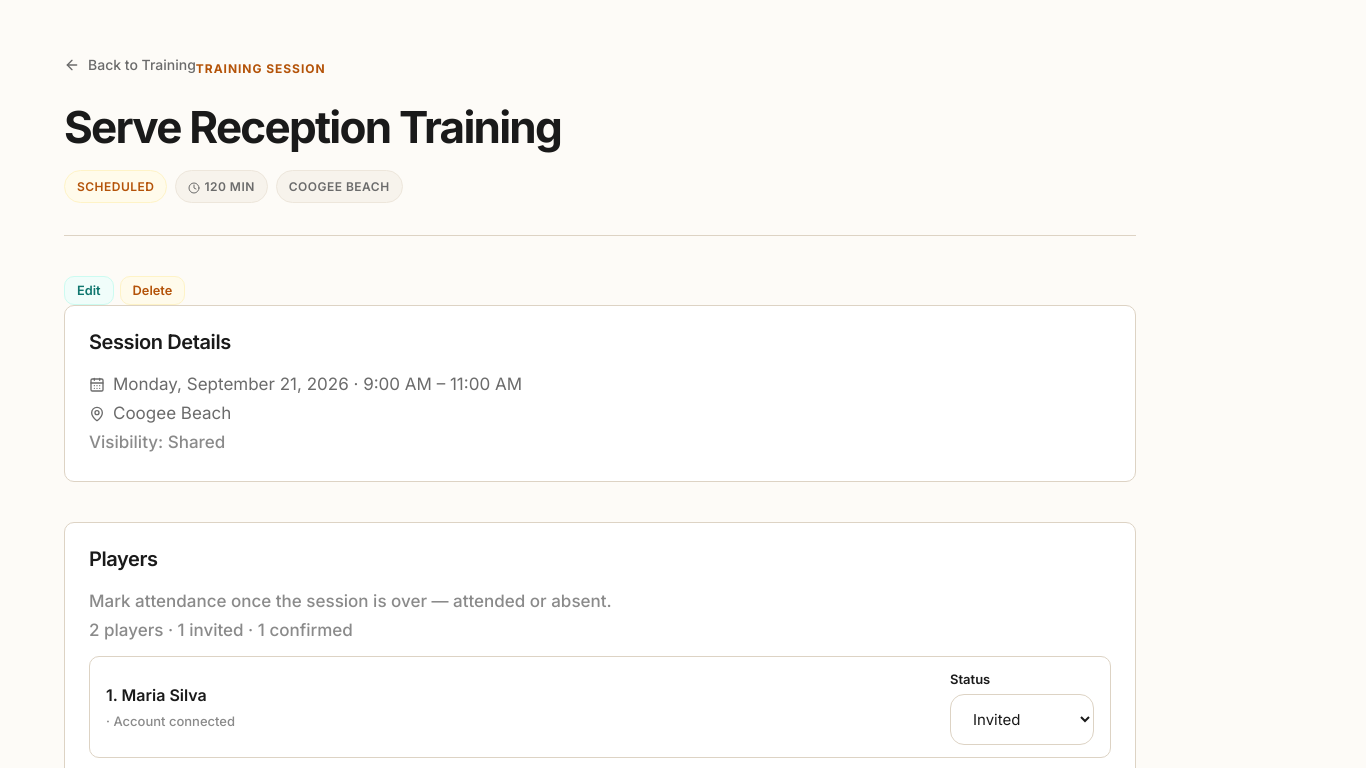
Test case: TrainingDetail › lets a coach mark attendance
The width and height of the screenshot is (1366, 768).
Check: the text "1. Maria Silva" is shown, box [106,685,207,705]
Select "Attended" in the dropdown named "Status of Maria Silva" at (1022, 720), box [950,694,1094,745]
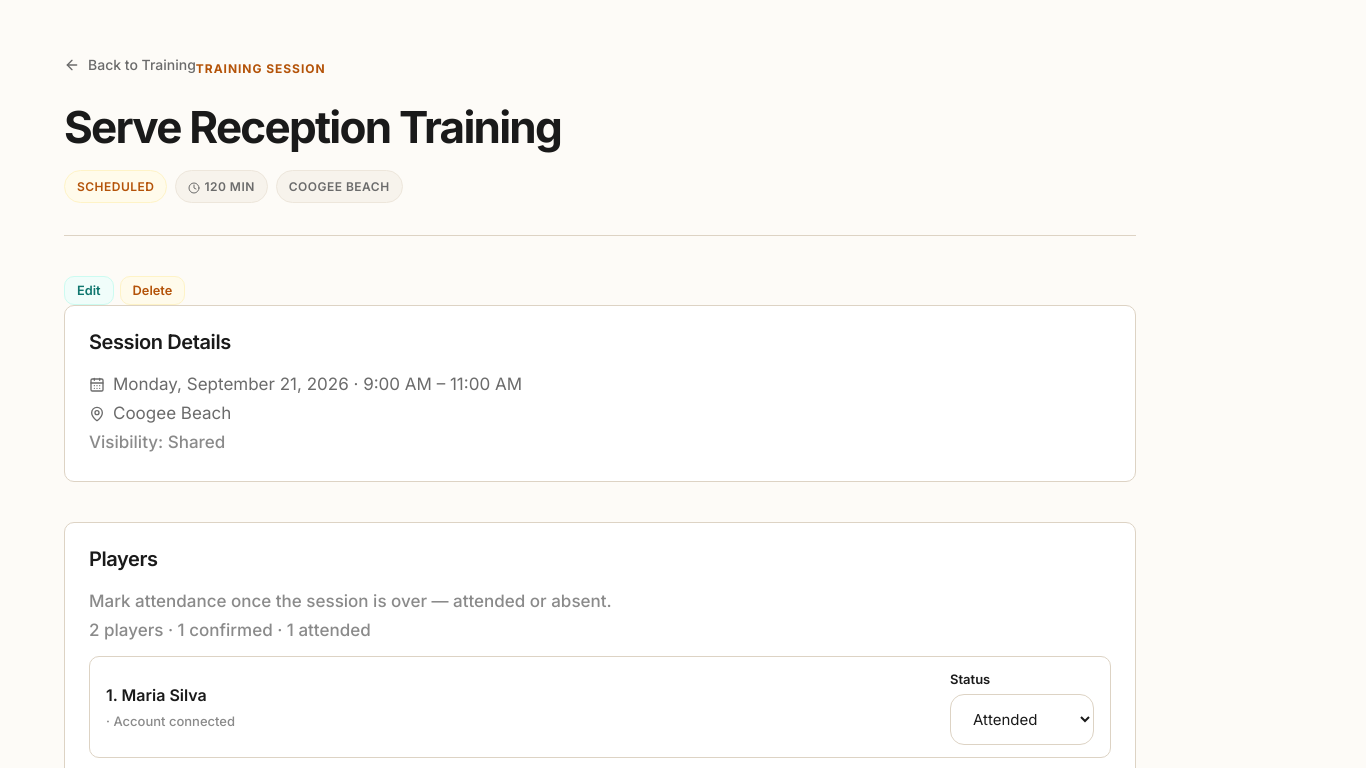
Check: the text "2 players · 1 confirmed · 1 attended" is shown, box [89,620,371,640]
